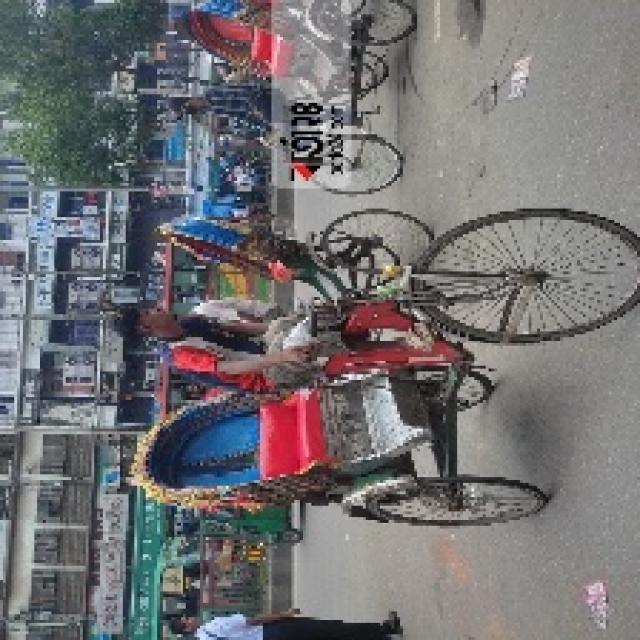rickshaw: (138, 204, 607, 514), (165, 11, 401, 197), (146, 205, 418, 298)
